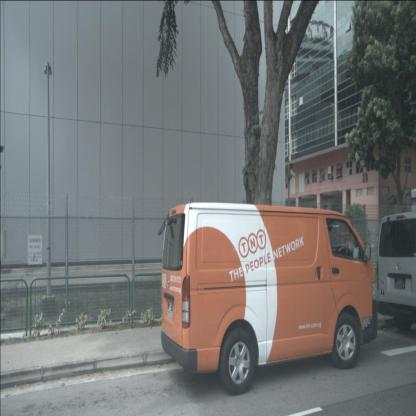vehicle-car: (160, 203, 378, 396), (376, 212, 416, 331)
